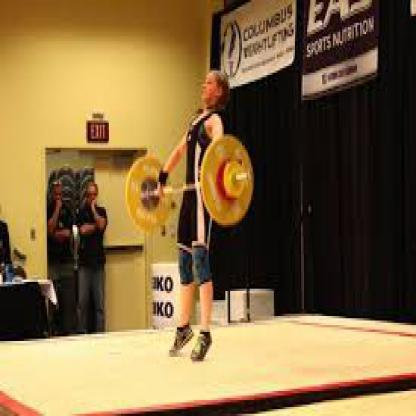barbell: (126, 136, 253, 230)
